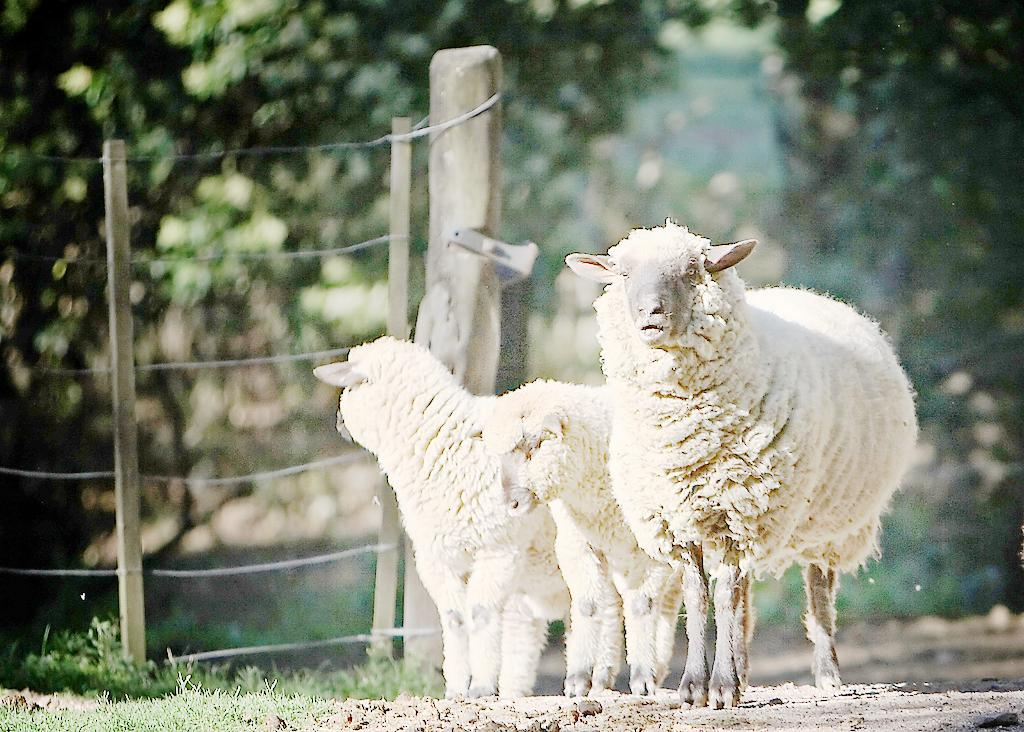Sheep: (566, 219, 918, 710), (315, 334, 570, 700), (466, 379, 682, 696)
